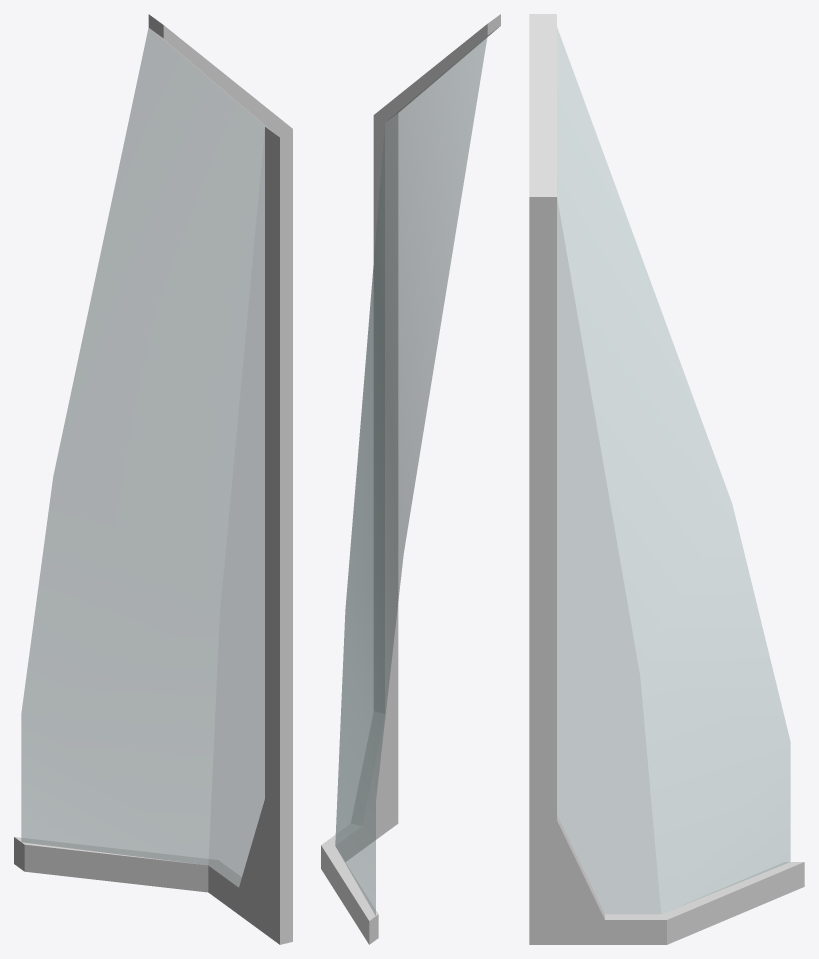
File: winshield02L.fbx
3 views of the same model, side by side, from view 1: azimuth 30°, elevation 25°; view 2: azimuth 150°, elevation 25°; view 3: azimuth 270°, elevation 25° (orthographic). The views are drawn at different scales.
Parts seen in each view (by area): view 1: left frame; view 2: left frame; view 3: left frame.
Part boxes in pixels (x1,y1,x2,y2): left frame: (14,14,292,944); left frame: (321,14,500,944); left frame: (529,14,804,944).
Bounding box in the file's own units: 1 × 2 × 7.
